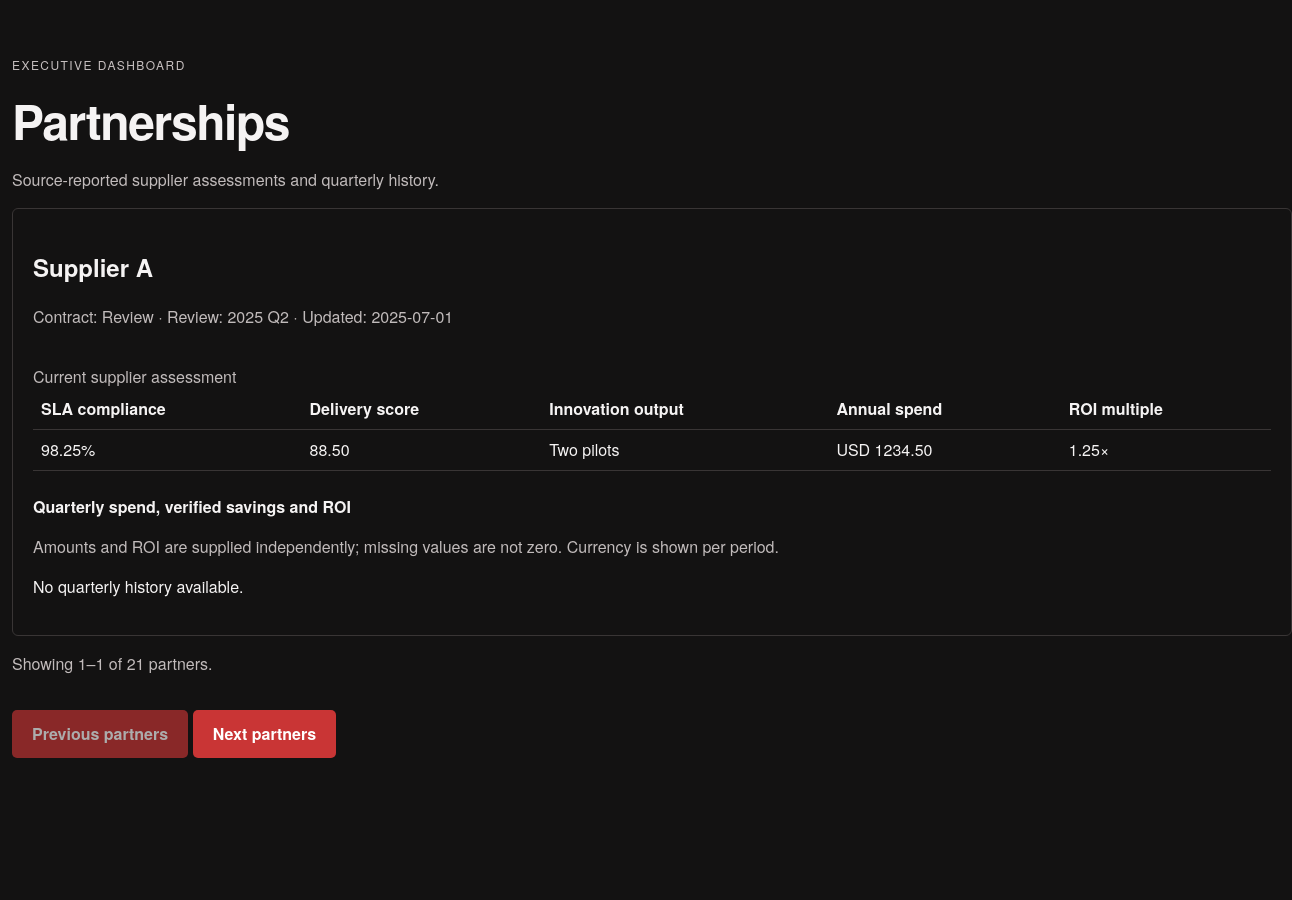
Partnerships › shows missing history and supports pagination
Expected: the text "No quarterly history available." is shown, [33,575,244,598]
Click the button "Next partners": (264, 734) [193,710,336,758]
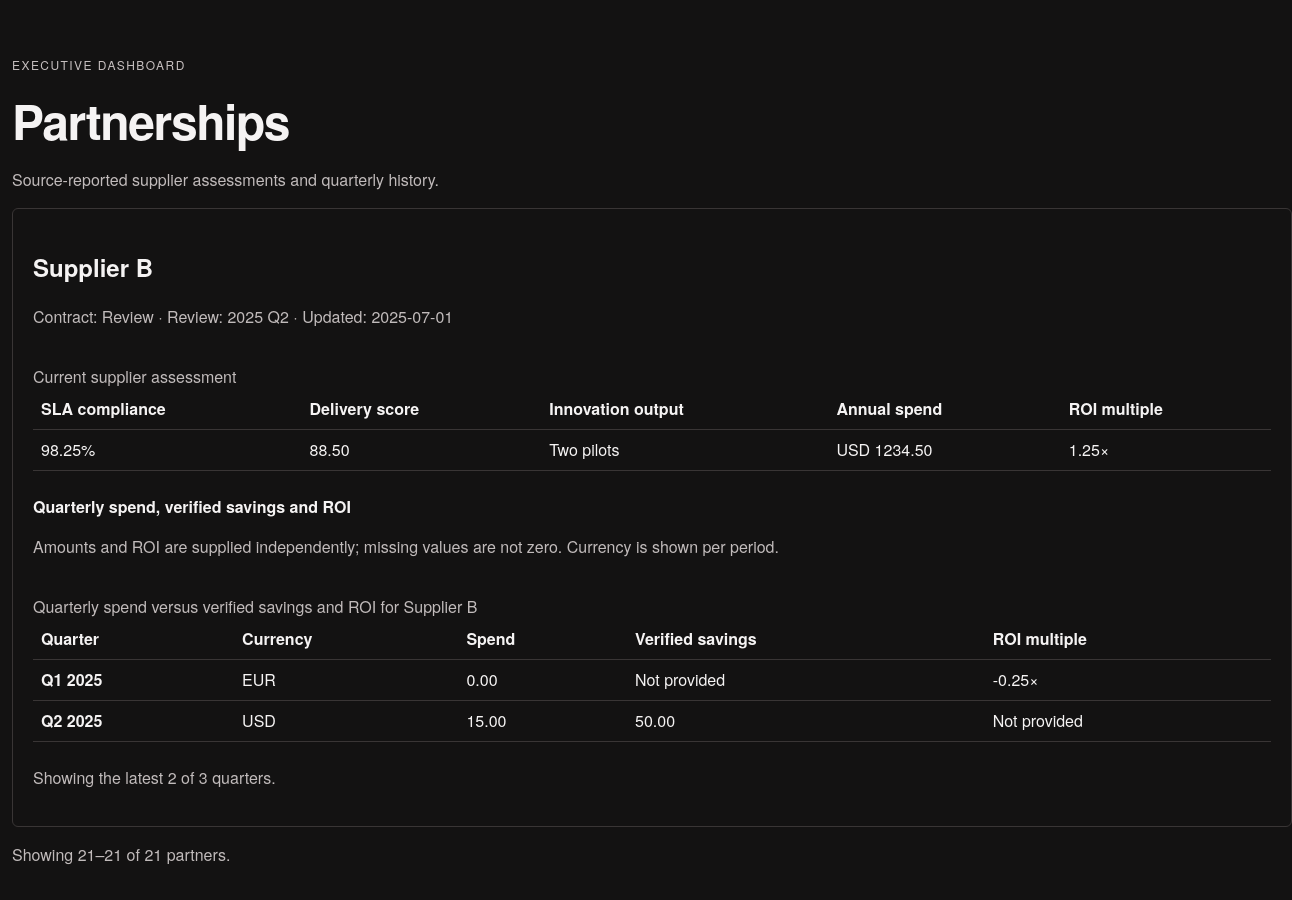
Now the heading "Supplier B" is shown, box [33,250,153,284]
